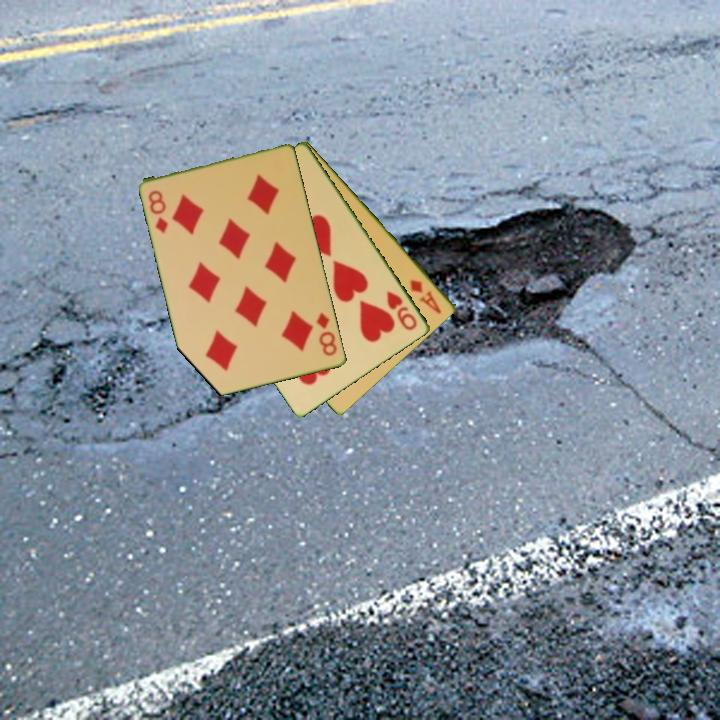8d: (313, 309, 340, 359), (145, 187, 171, 237)
9h: (383, 287, 421, 334)
Ad: (407, 276, 444, 317)
